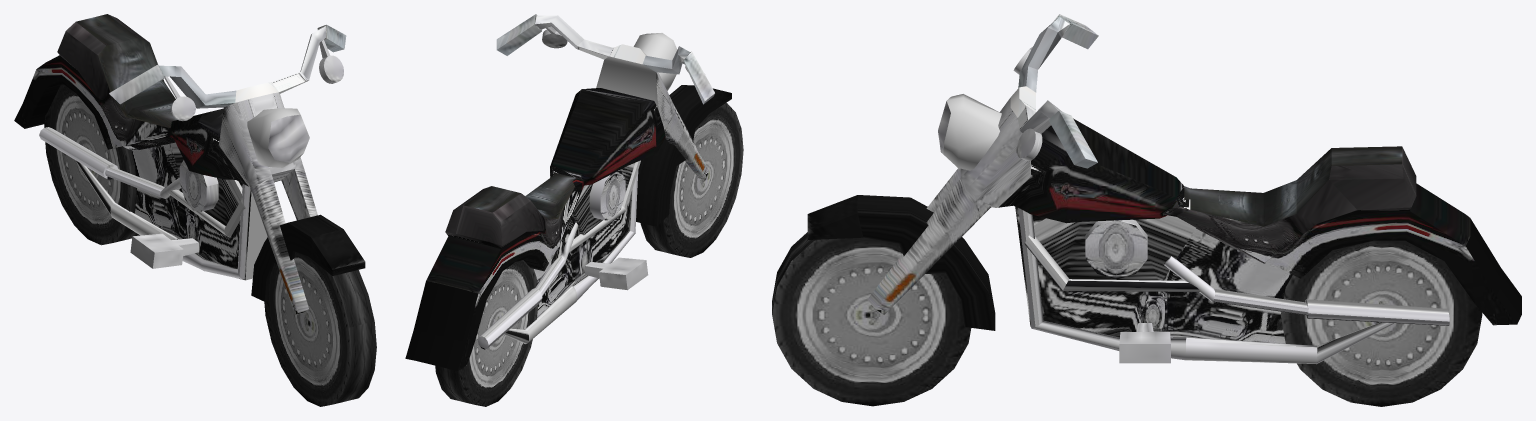
Rendered from Motorcycle_TanyaHuang_Final.fbx.
3 renders of one model, left to right at view 1: azimuth 30°, elevation 25°; view 2: azimuth 150°, elevation 25°; view 3: azimuth 270°, elevation 25°, orthographic. The views are drawn at different scales.
Visible parts, largest first — view 1: Motorcycle; view 2: Motorcycle; view 3: Motorcycle.
Boxes of the visible parts, left/top/right/bottom form: Motorcycle: left=14, top=14, right=376, bottom=406; Motorcycle: left=405, top=14, right=743, bottom=406; Motorcycle: left=772, top=14, right=1521, bottom=406.
Bounding box in the file's own units: 97.11 × 115 × 231.
4 materials, 1 textured.
